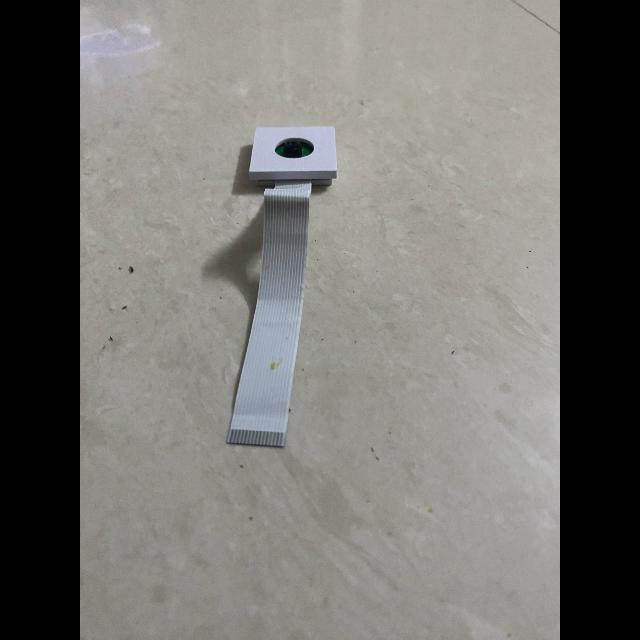RASPBERY PI CAM ENCLOSURE: (249, 126, 337, 188)
